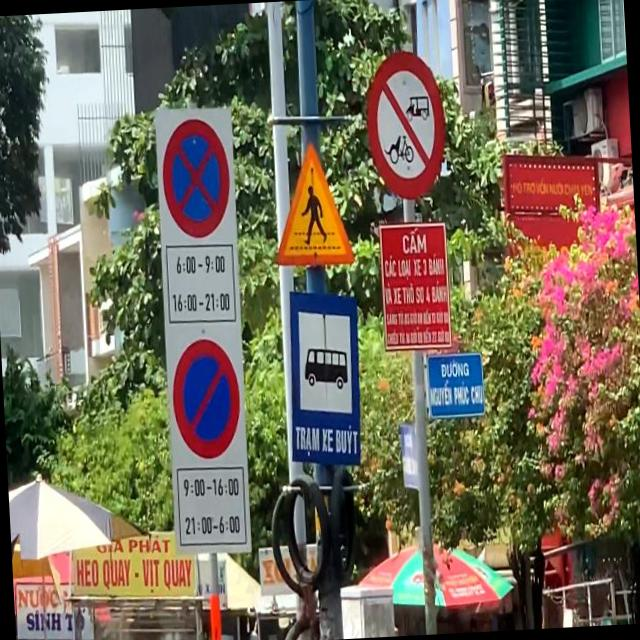P-130: (160, 120, 232, 240)
P-131a: (172, 337, 242, 459)
W-224: (271, 139, 359, 266)
